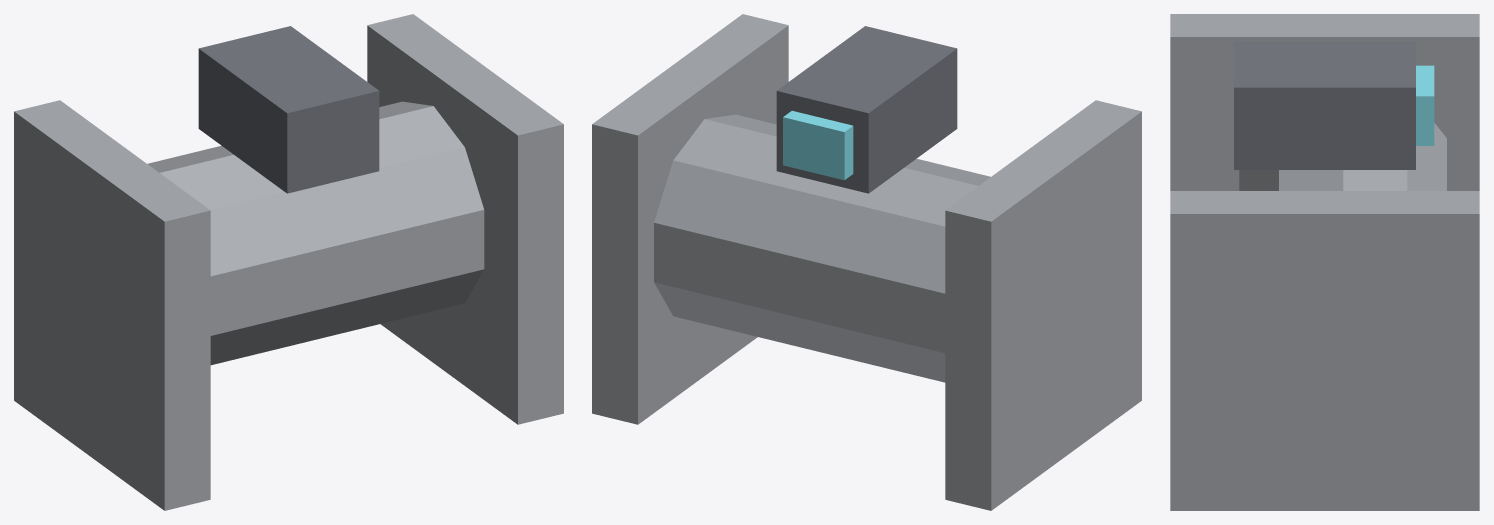
Rendered from pdc_gatling_pitch.glb.
3 renders of one model, left to right at view 1: azimuth 30°, elevation 25°; view 2: azimuth 150°, elevation 25°; view 3: azimuth 270°, elevation 25°, orthographic. The views are drawn at different scales.
Bounding box in the file's own units: 0.52 × 0.42 × 0.34.
